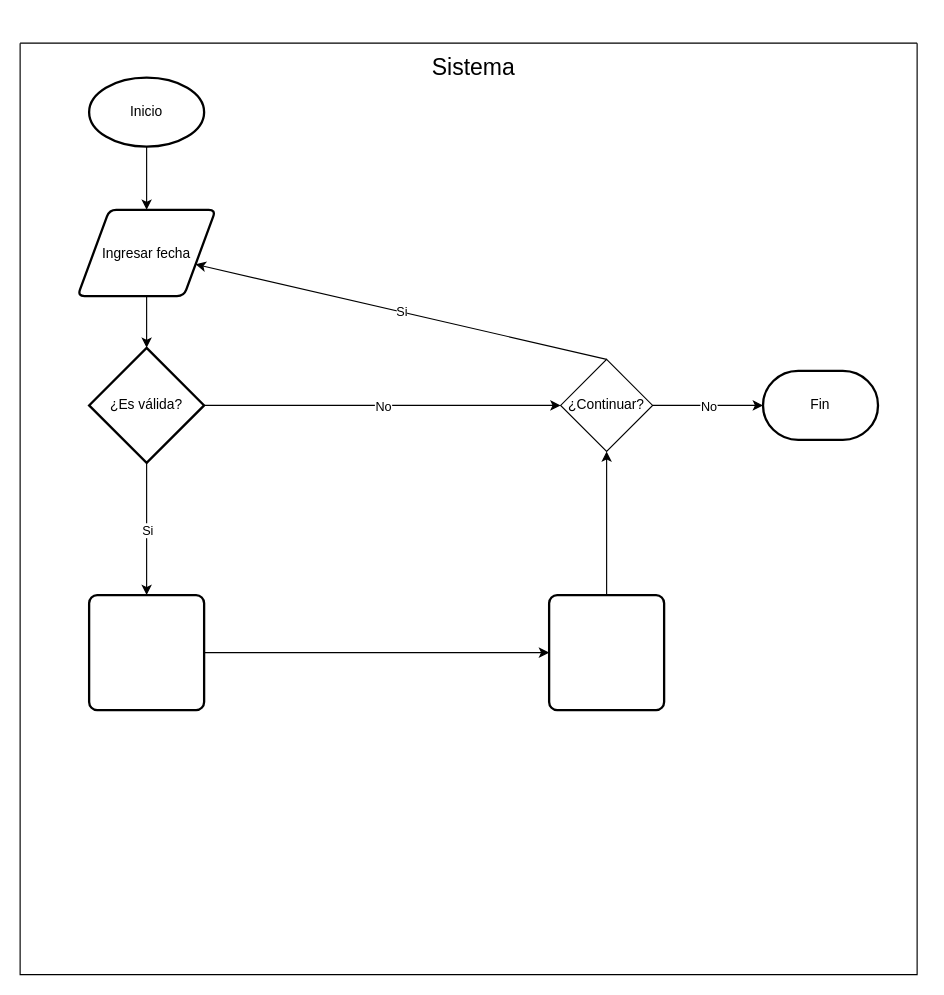
The diagram is 944 pixels wide and 995 high, and some of its shapes have lost their labels. Here are the shapes that lost their labels. From the top down, the centre of each, then its label:
At [146,652]: "Obtener cotizaciones de la fecha".
At [606,652]: "Guardar datos".
